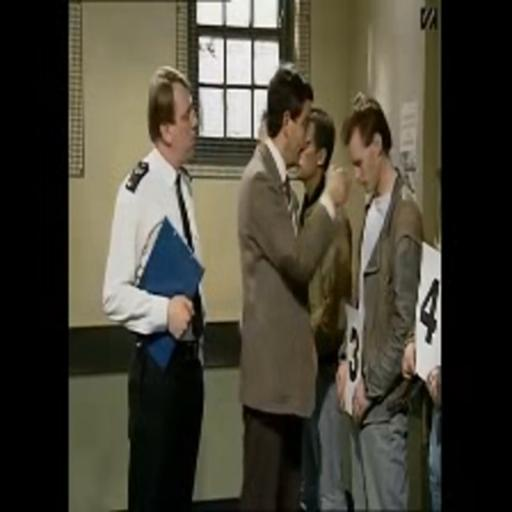nao-violencia: (232, 47, 426, 508)
